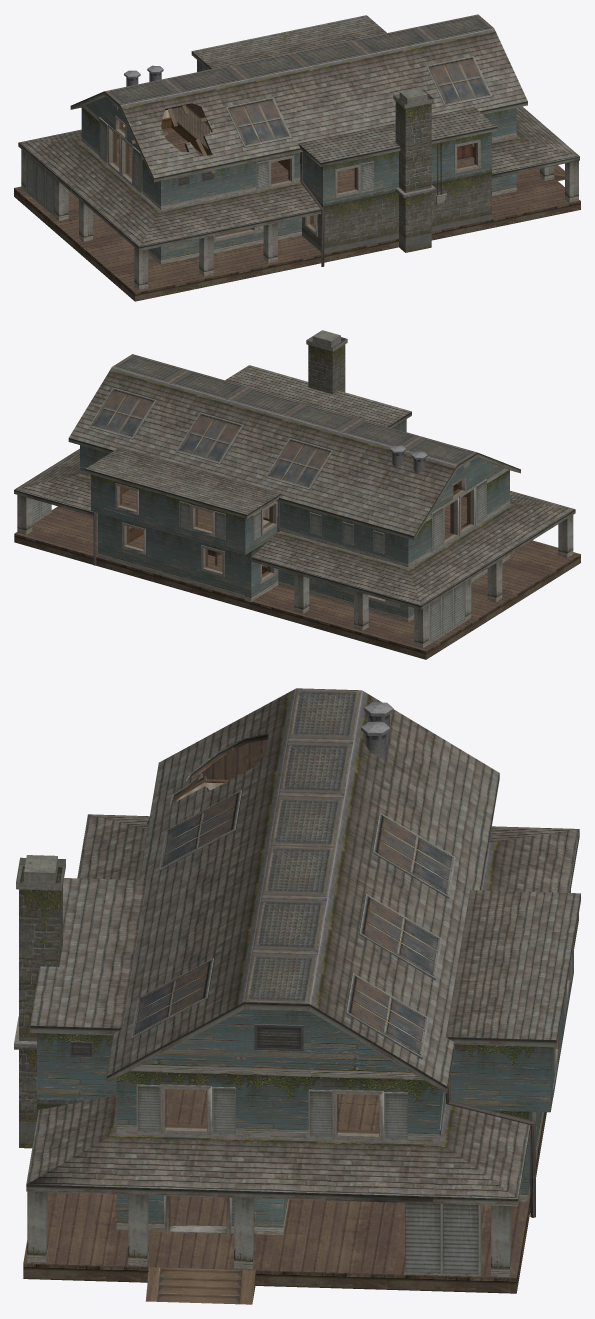
3 renders of one model, top to bottom at view 1: azimuth 30°, elevation 25°; view 2: azimuth 150°, elevation 25°; view 3: azimuth 270°, elevation 25°, orthographic. The views are drawn at different scales.
Parts seen in each view (by area): view 1: metal_04, others_cloth, wood house, concretae wall; view 2: metal_04, others_cloth, wood house, concretae wall; view 3: metal_04, others_cloth, wood house, concretae wall.
Boxes of the visible parts, left/top/right/bottom form: metal_04: left=18, top=15, right=579, bottom=266; others_cloth: left=14, top=14, right=580, bottom=301; wood house: left=21, top=60, right=578, bottom=289; concretae wall: left=302, top=88, right=491, bottom=253; metal_04: left=14, top=365, right=575, bottom=609; others_cloth: left=14, top=354, right=580, bottom=659; wood house: left=17, top=419, right=573, bottom=647; concretae wall: left=306, top=330, right=347, bottom=394; metal_04: left=26, top=688, right=580, bottom=1221; others_cloth: left=23, top=688, right=578, bottom=1304; wood house: left=27, top=779, right=573, bottom=1276; concretae wall: left=14, top=855, right=89, bottom=1148.
Bounding box in the file's own units: 2822 × 916 × 1689.
